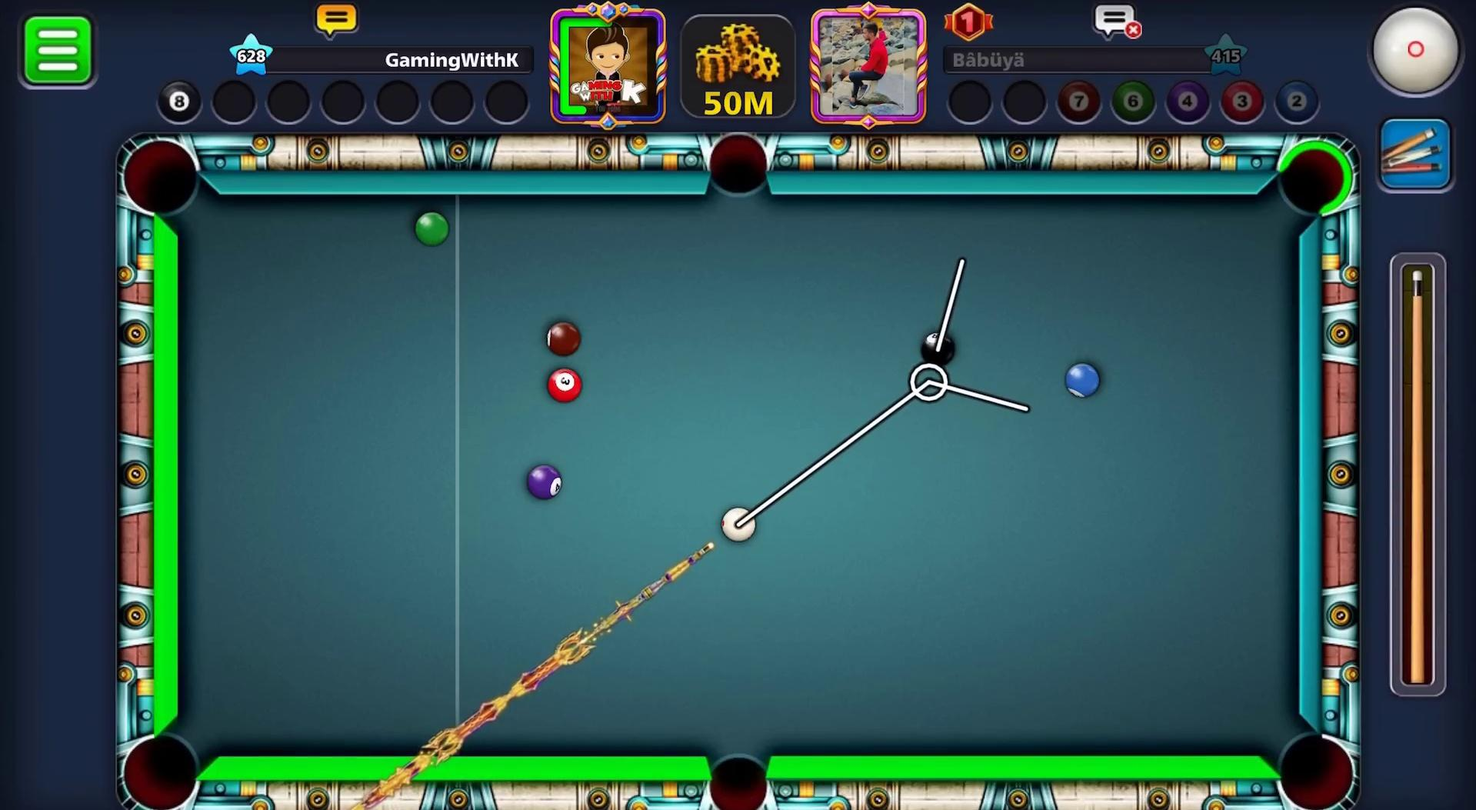Ball: (504, 453, 574, 507), (532, 313, 588, 365), (1059, 359, 1106, 408), (540, 356, 582, 409), (914, 332, 960, 373), (408, 210, 451, 249)
Force: (1389, 254, 1454, 701)
Guideline: (734, 248, 1034, 531)
Hole: (91, 709, 231, 810), (1250, 703, 1382, 810), (103, 125, 212, 230), (1265, 127, 1364, 231), (686, 713, 778, 810), (704, 120, 794, 218)
Play_Area: (179, 196, 1301, 757)
Spin: (1362, 0, 1476, 110)
White: (715, 501, 757, 553)
